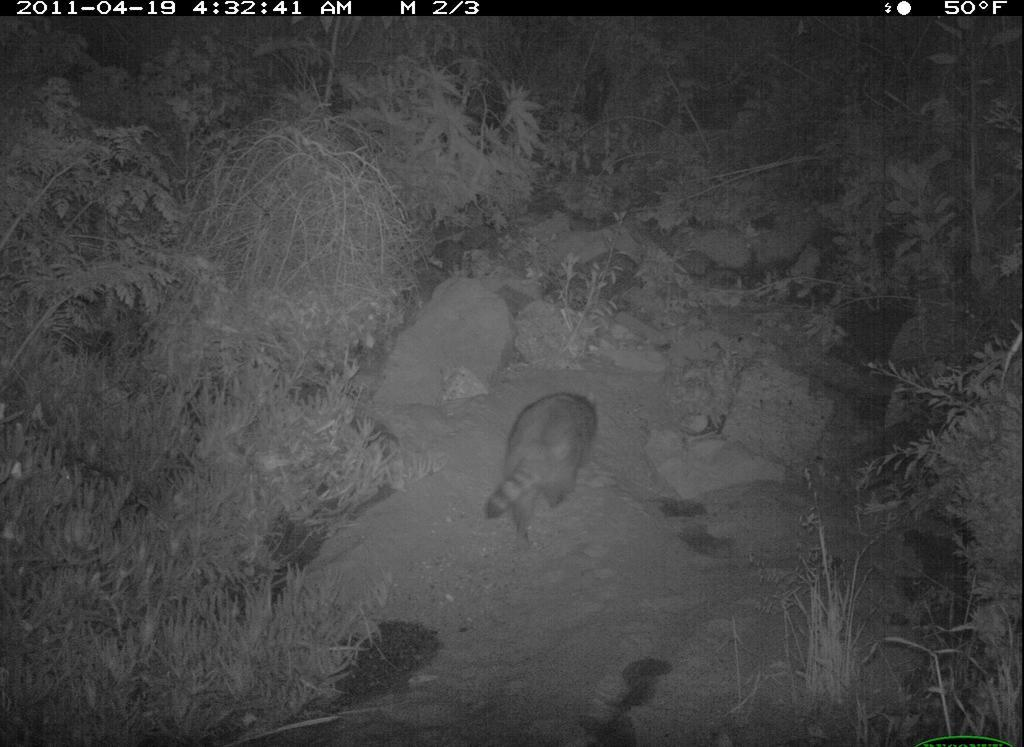raccoon: (474, 377, 606, 553)
